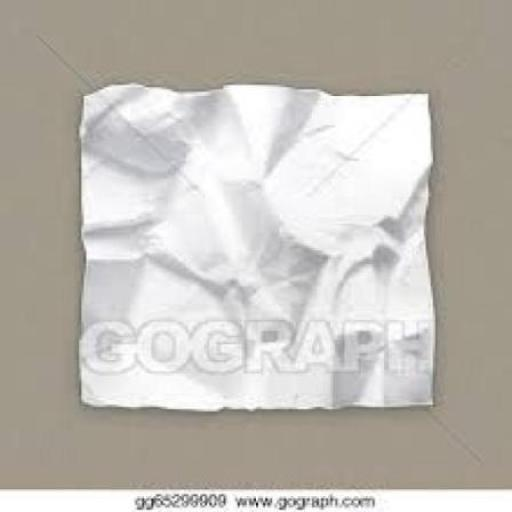paper: (38, 60, 477, 452)
